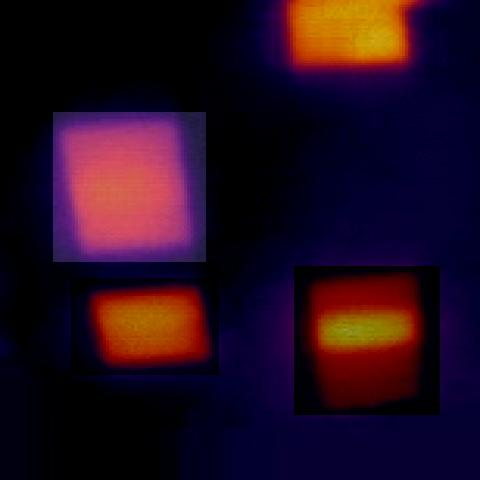fault: (53, 112, 206, 262), (294, 266, 440, 415), (71, 278, 219, 375), (275, 0, 438, 77)
